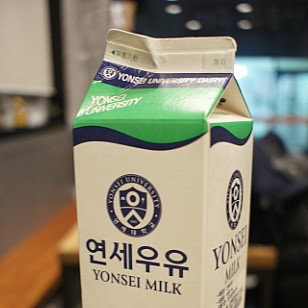milk: (73, 29, 254, 308)
